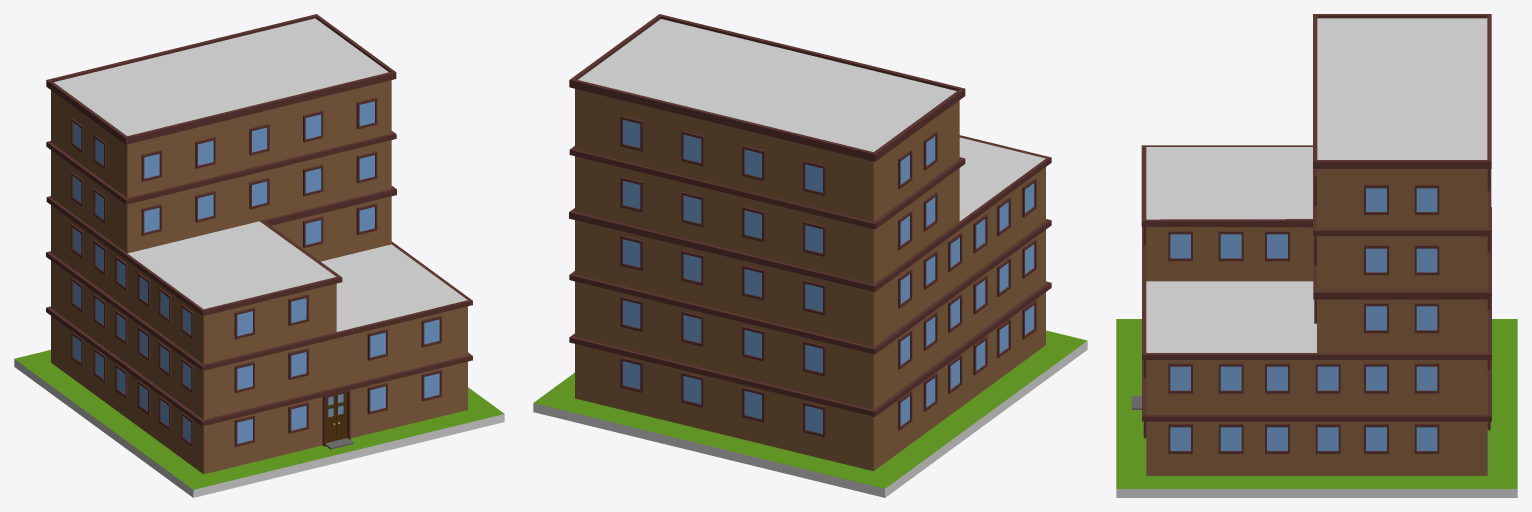
File: Building Type 2 Lvl 2.gltf
3 views of the same model, side by side, from view 1: azimuth 30°, elevation 25°; view 2: azimuth 150°, elevation 25°; view 3: azimuth 270°, elevation 25° (orthographic). The views are drawn at different scales.
Visible parts, largest first — view 1: zgrada 2x2.001, prozori zgrada 2x2.001, BAZA 2x2.001, ulazna vrata zgrade .001; view 2: zgrada 2x2.001, prozori zgrada 2x2.001, BAZA 2x2.001; view 3: zgrada 2x2.001, prozori zgrada 2x2.001, BAZA 2x2.001.
Part boxes in pixels (x1,y1,x2,y2): zgrada 2x2.001: [46, 14, 472, 474]; prozori zgrada 2x2.001: [71, 97, 441, 446]; BAZA 2x2.001: [14, 350, 504, 497]; ulazna vrata zgrade .001: [322, 390, 353, 449]; zgrada 2x2.001: [569, 14, 1051, 471]; prozori zgrada 2x2.001: [620, 116, 1036, 437]; BAZA 2x2.001: [533, 330, 1087, 497]; zgrada 2x2.001: [1141, 14, 1491, 475]; prozori zgrada 2x2.001: [1143, 169, 1490, 453]; BAZA 2x2.001: [1116, 319, 1517, 497].
Size of the model in its own units: 4.02 by 3.58 by 4.
